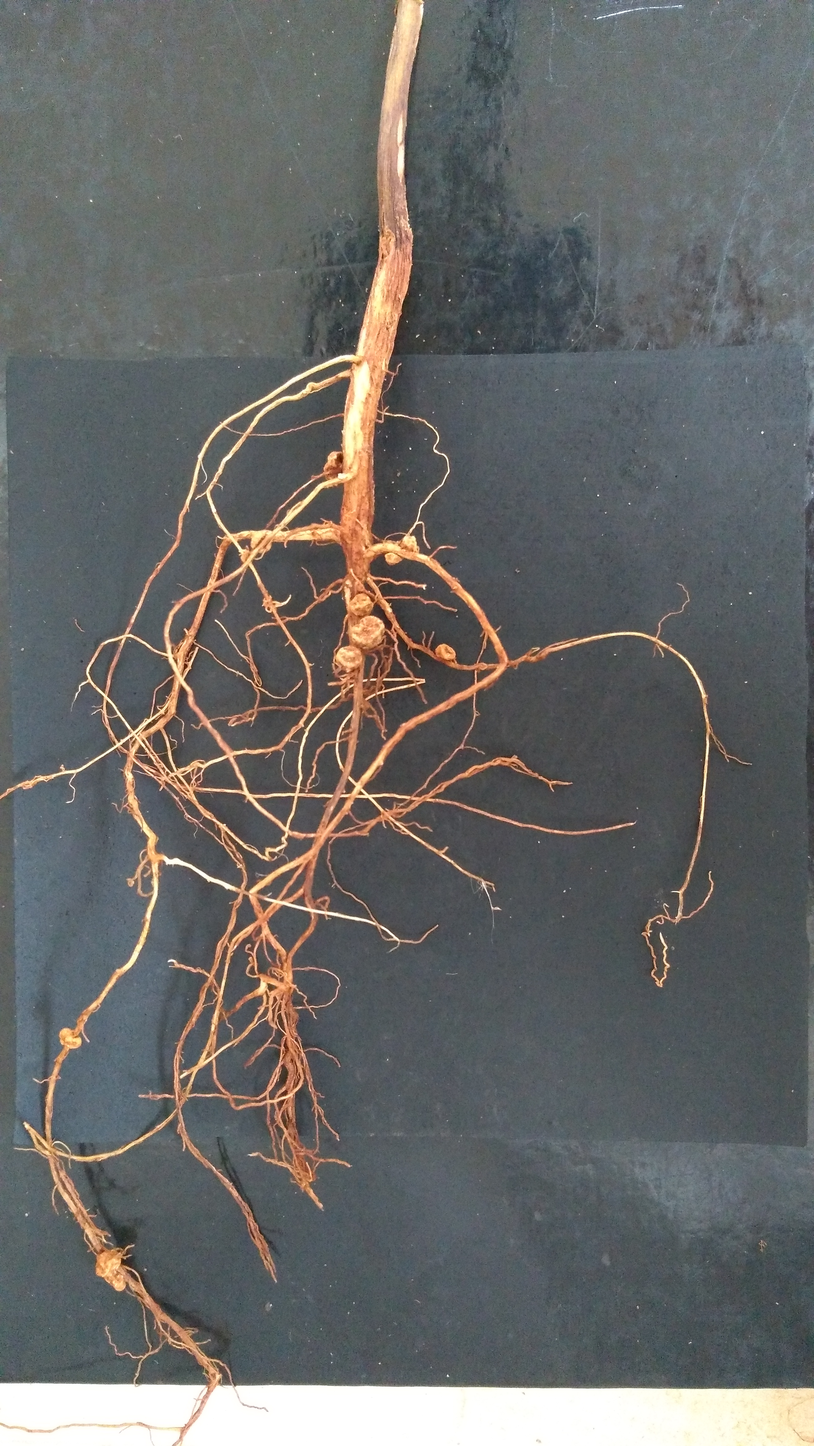nodule: (349, 615, 386, 650), (384, 536, 419, 565), (95, 1249, 122, 1278), (335, 645, 364, 672), (324, 450, 344, 485), (104, 1266, 127, 1291), (349, 593, 374, 616), (250, 529, 272, 553), (59, 1028, 81, 1050), (435, 643, 456, 661), (240, 550, 253, 564)
